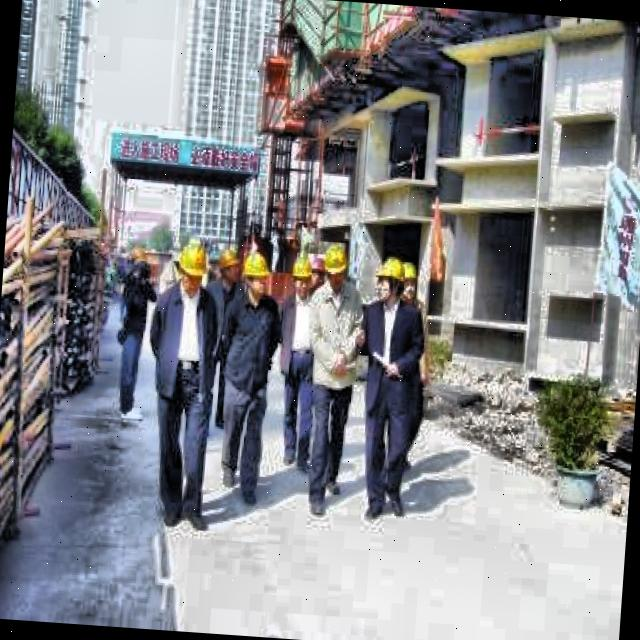helmet: (368, 253, 408, 309), (173, 242, 210, 300), (238, 248, 272, 300), (320, 237, 350, 292), (214, 246, 244, 288), (286, 252, 312, 300), (396, 257, 422, 305), (307, 250, 329, 292)
